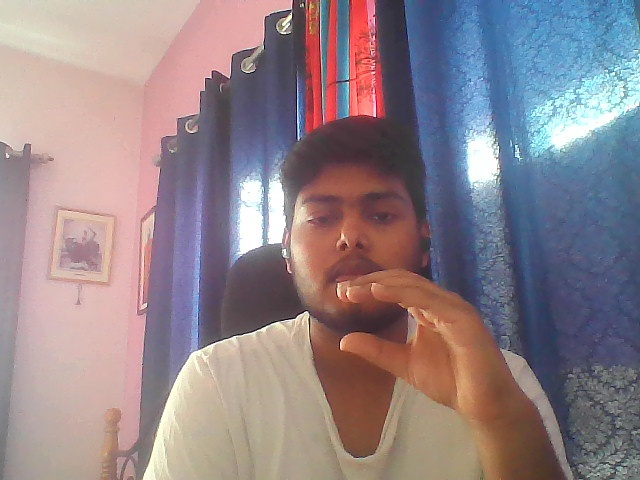No: (326, 266, 552, 425)
